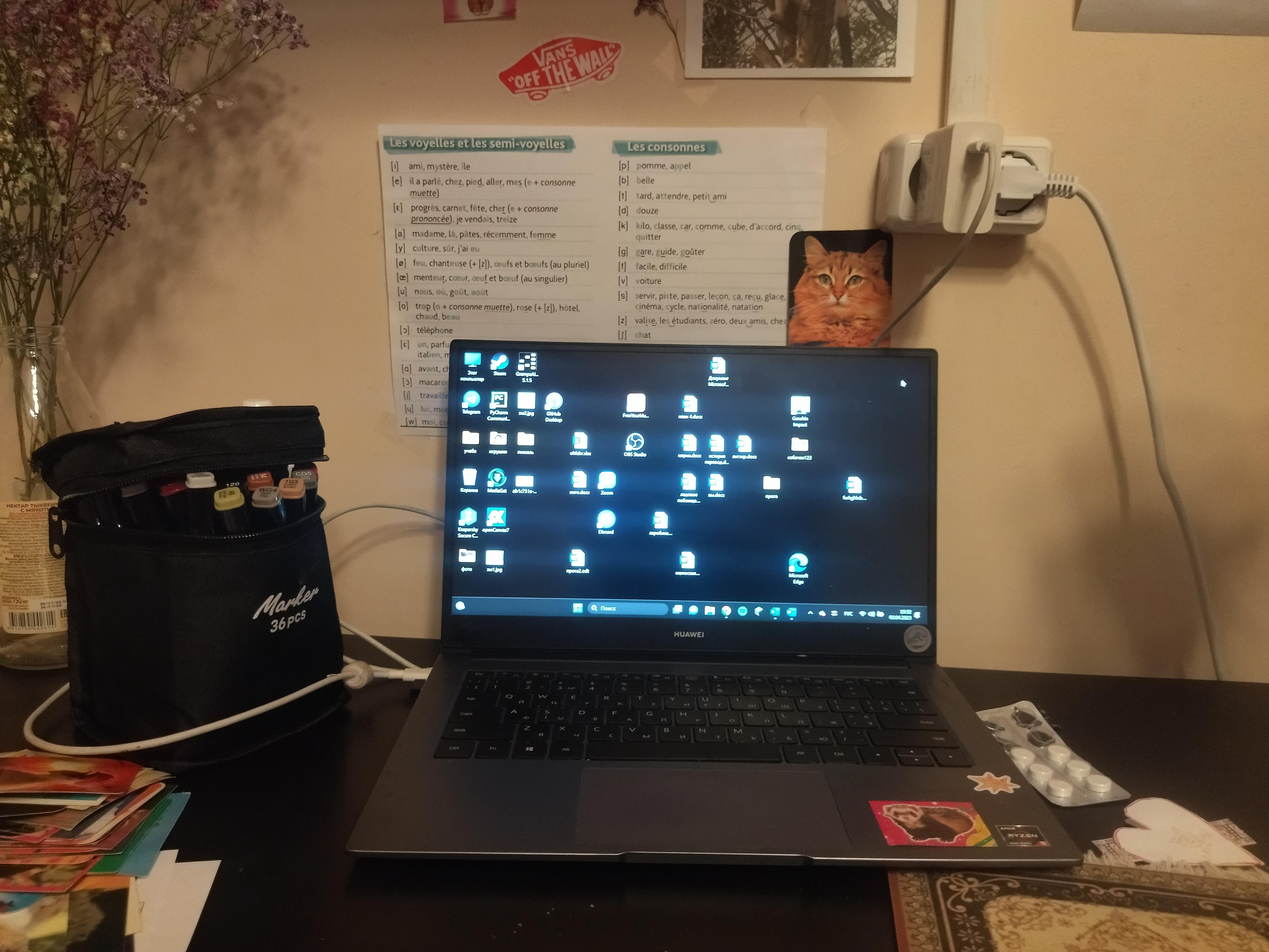monitor: (433, 325, 947, 663)
